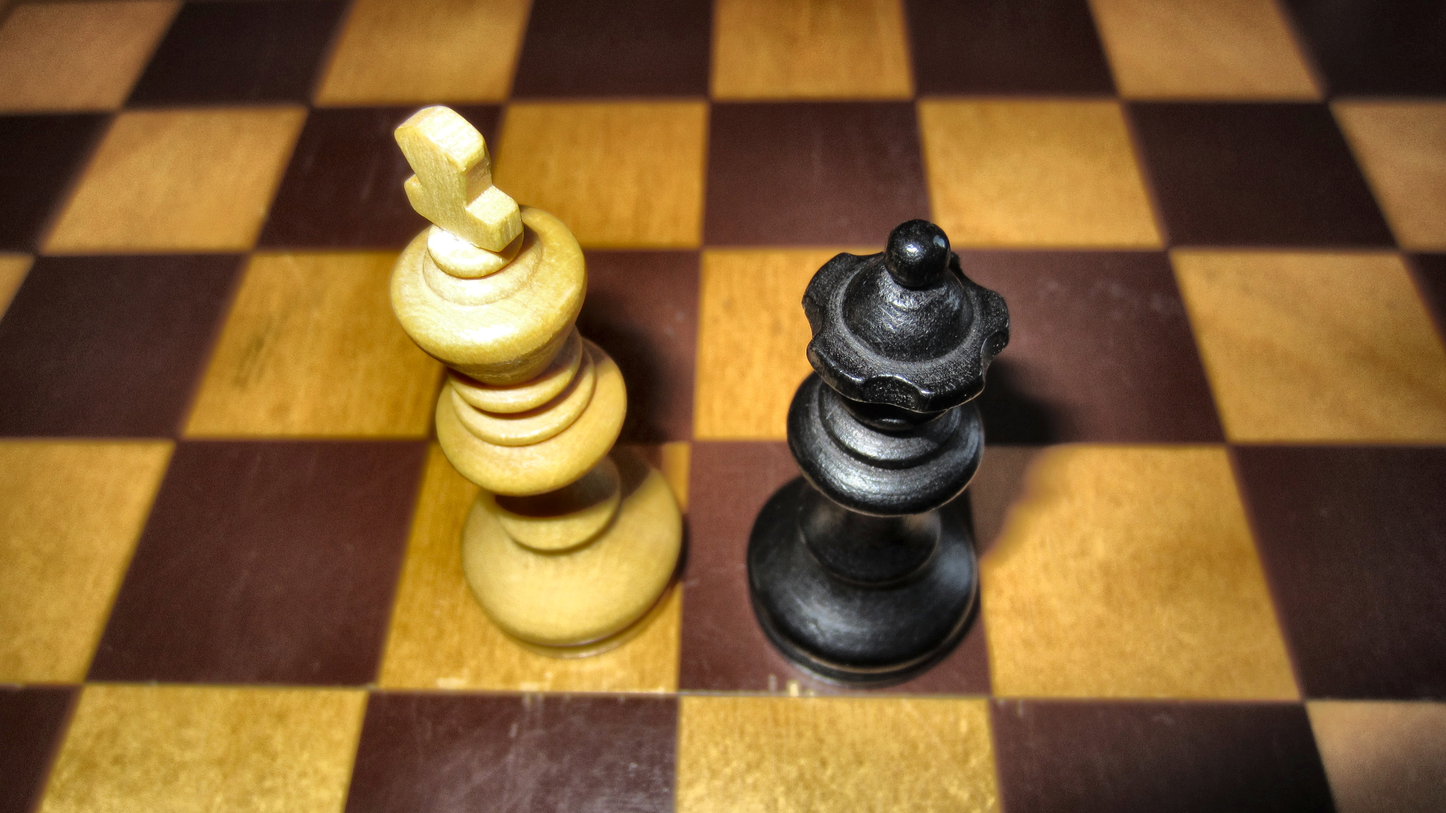black-queen: (743, 217, 1015, 688)
white-king: (388, 101, 685, 660)
